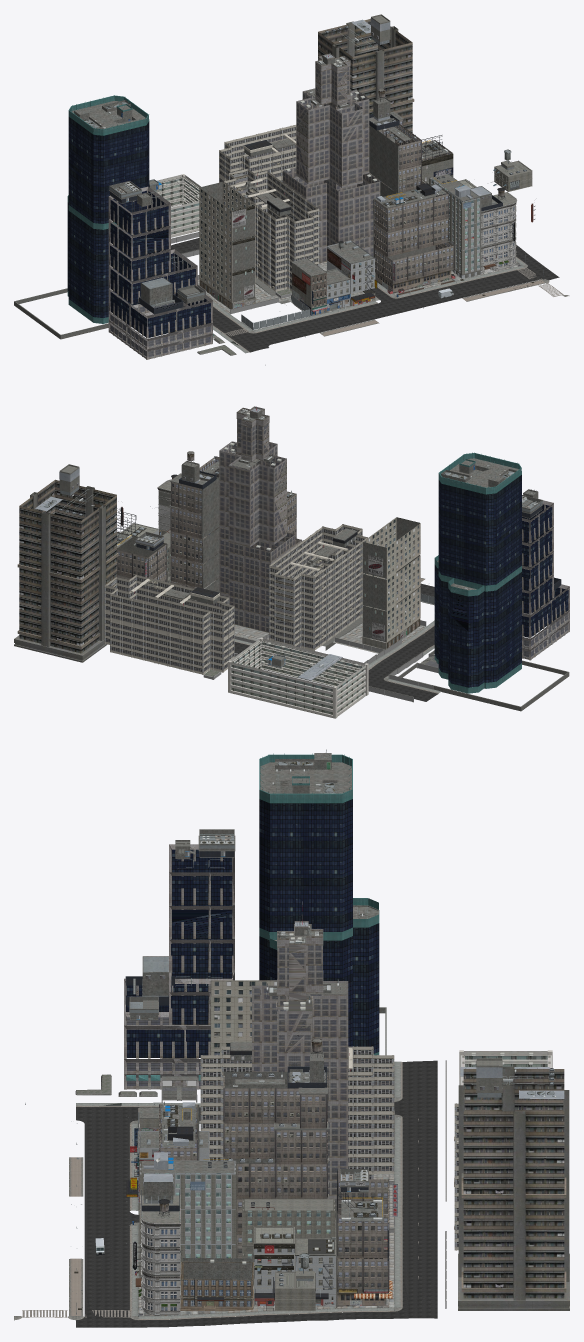
The model's file is block-citya-0.glb.
3 views of the same model, one above another, from view 1: azimuth 30°, elevation 25°; view 2: azimuth 150°, elevation 25°; view 3: azimuth 270°, elevation 25° (orthographic). The views are drawn at different scales.
Visible parts, largest first — view 1: Object_78, Object_18, Object_94, Object_168, Object_88, Object_5, Object_68, Object_225, Object_148, Object_118, Object_115, Object_143 (+14 smaller); view 2: Object_18, Object_168, Object_68, Object_78, Object_94, Object_143, Object_88, Object_225, Object_66, Object_5, Object_204, Object_175 (+9 smaller); view 3: Object_18, Object_68, Object_5, Object_78, Object_94, Object_88, Object_168, Object_148, Object_231, Object_118, Object_204, Object_115 (+13 smaller).
Part boxes in pixels (x1,y1,x2,y2): Object_78: (108, 53, 380, 359); Object_18: (67, 117, 210, 337); Object_94: (14, 53, 491, 355); Object_168: (219, 125, 319, 291); Object_88: (369, 120, 454, 293); Object_5: (171, 238, 559, 352); Object_68: (318, 19, 414, 132); Object_225: (199, 182, 255, 302); Object_148: (200, 160, 532, 315); Object_118: (327, 174, 481, 307); Object_115: (481, 192, 517, 274); Object_143: (155, 174, 200, 237); Object_18: (434, 475, 568, 687); Object_168: (104, 524, 367, 674); Object_68: (14, 479, 118, 662); Object_78: (219, 406, 569, 660); Object_94: (107, 407, 569, 711); Object_143: (228, 637, 368, 718); Object_88: (117, 456, 301, 588); Object_225: (362, 517, 420, 642); Object_66: (434, 452, 521, 693); Object_5: (234, 583, 437, 701); Object_204: (59, 464, 285, 666); Object_175: (203, 620, 438, 702); Object_18: (126, 799, 379, 1057); Object_68: (458, 1066, 569, 1310); Object_5: (76, 1060, 437, 1327); Object_78: (124, 844, 348, 1218); Object_94: (75, 753, 446, 1301); Object_88: (159, 1075, 389, 1306); Object_168: (200, 1046, 458, 1250); Object_148: (138, 1119, 335, 1310); Object_231: (76, 1061, 402, 1320); Object_118: (139, 1131, 335, 1306); Object_204: (142, 1058, 502, 1311); Object_115: (135, 1195, 180, 1315).
Bounding box in the file's own units: 70 × 30.43 × 48.12.
Materials: 70 (69 with a texture image).
